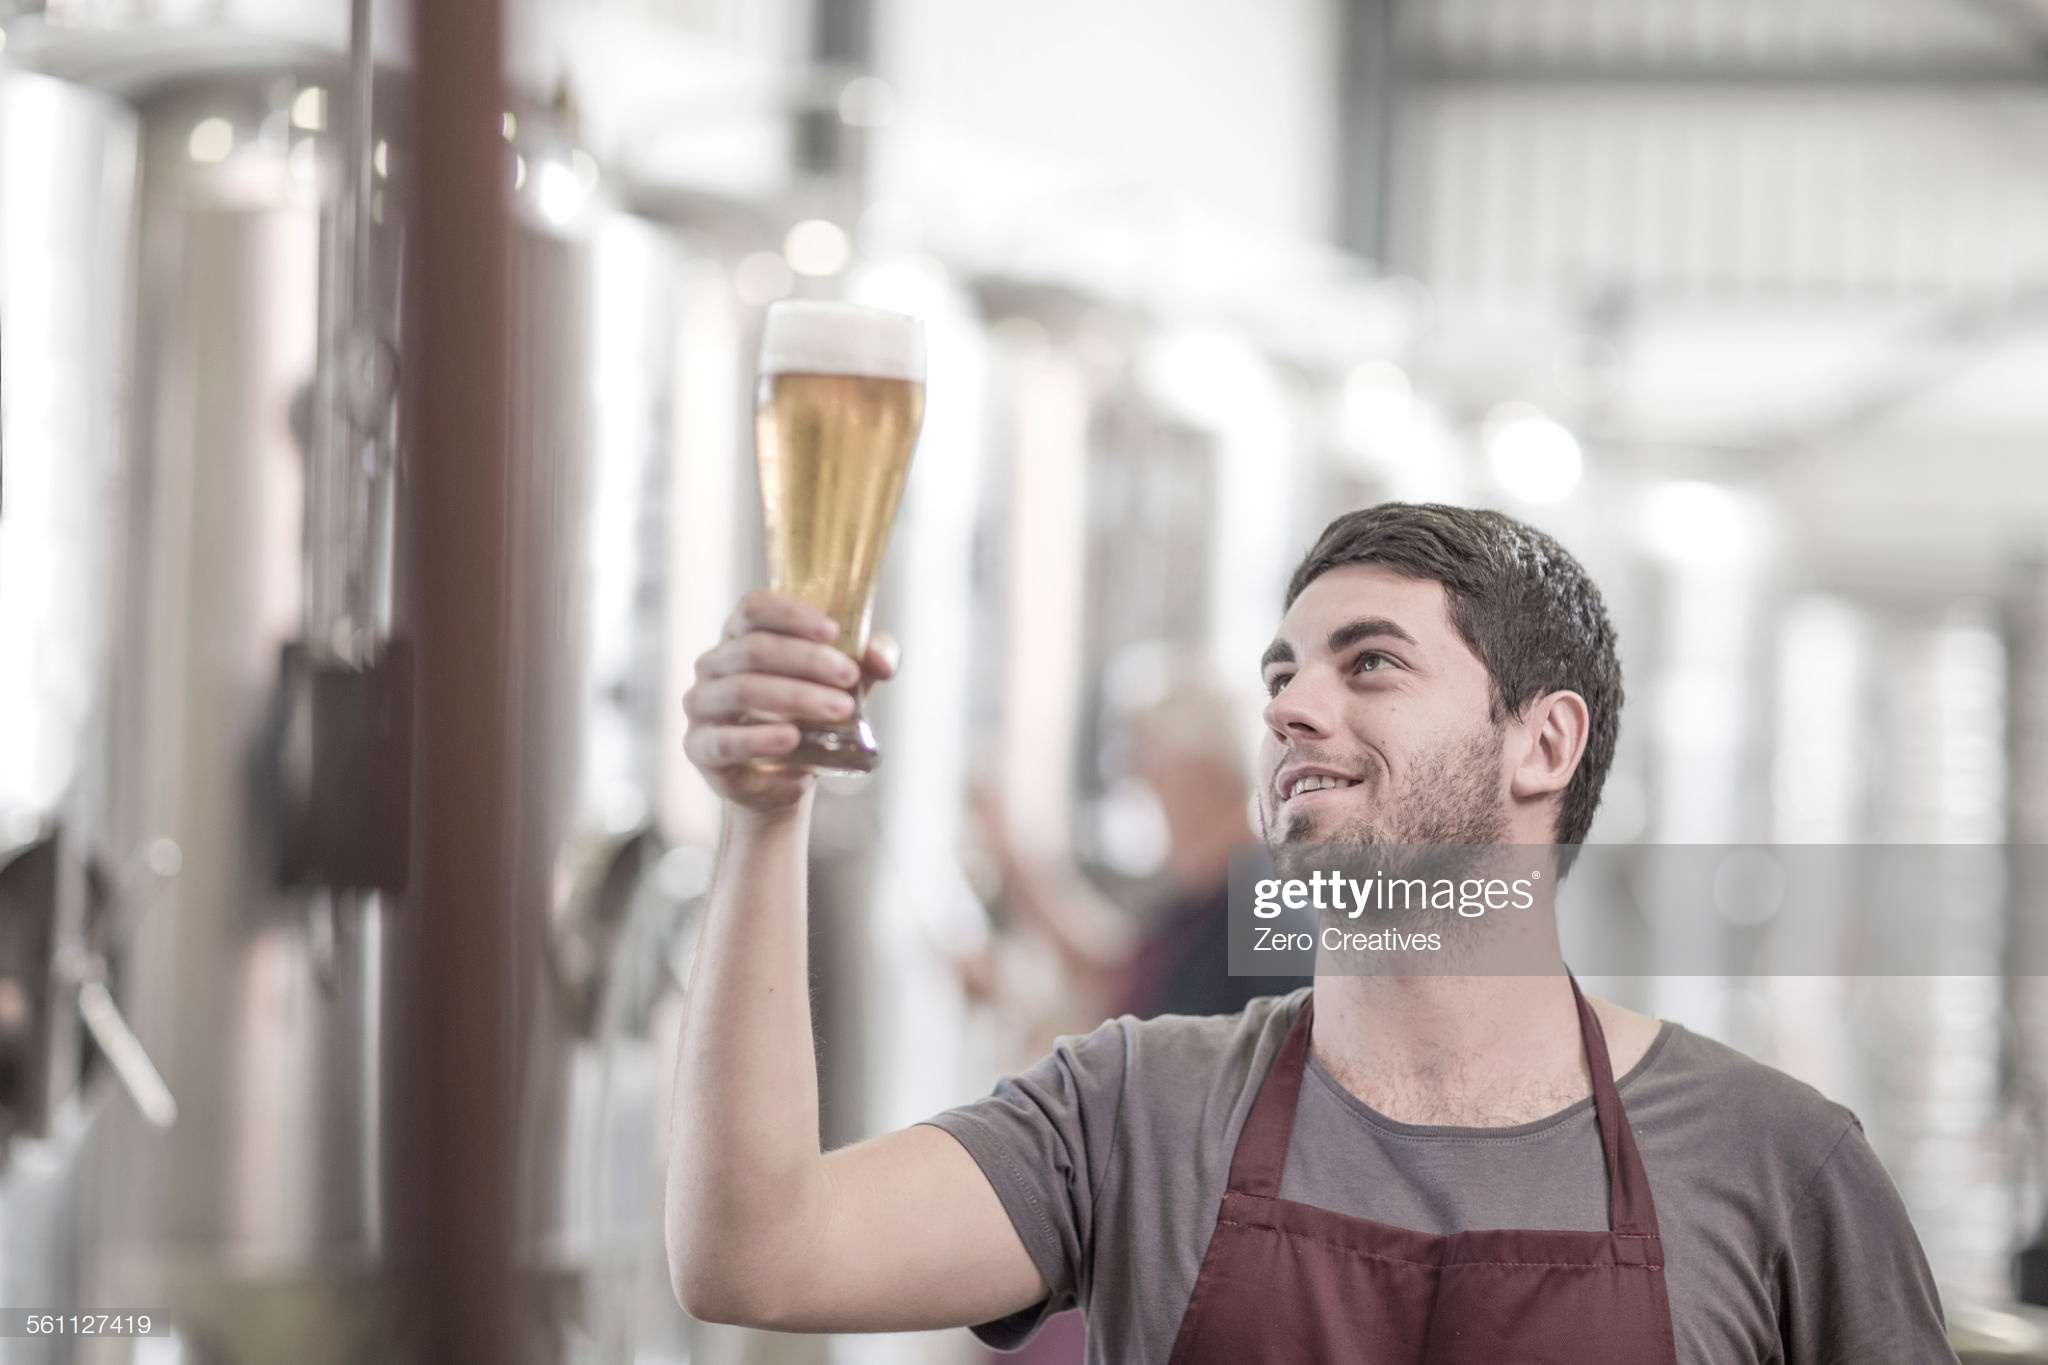glassBeer: (710, 308, 933, 740)
